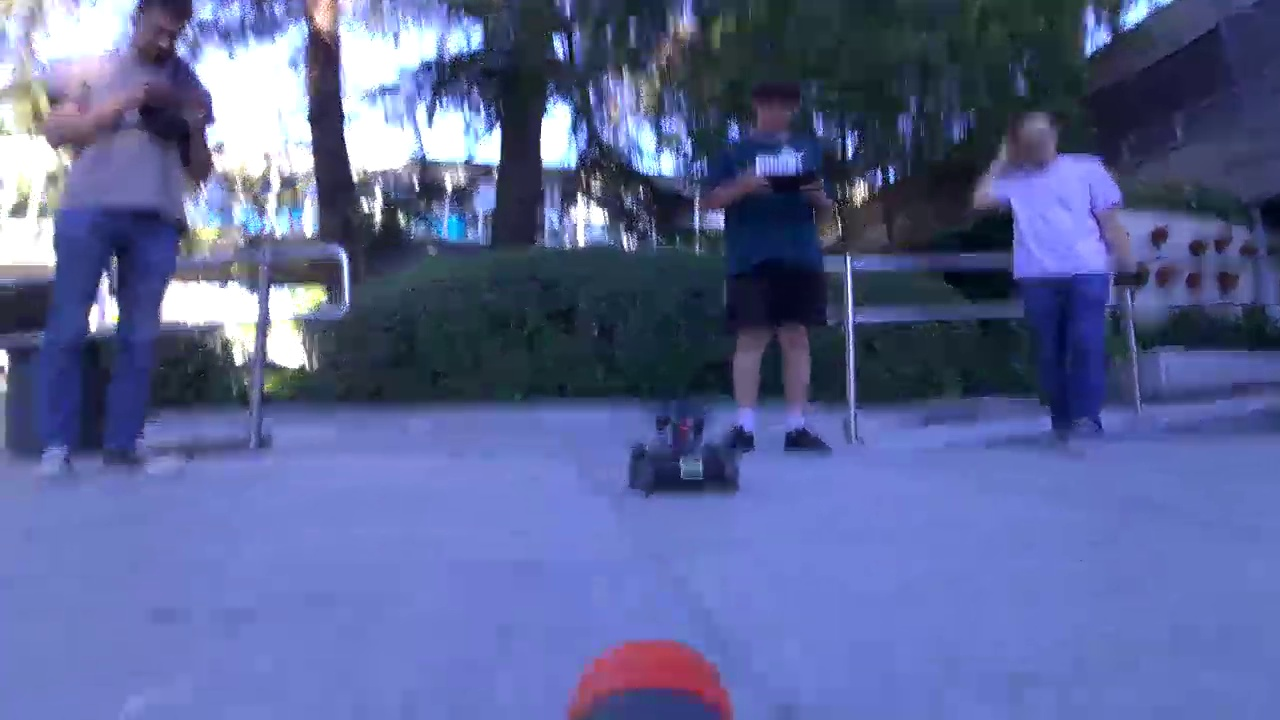robot: (620, 399, 744, 499)
